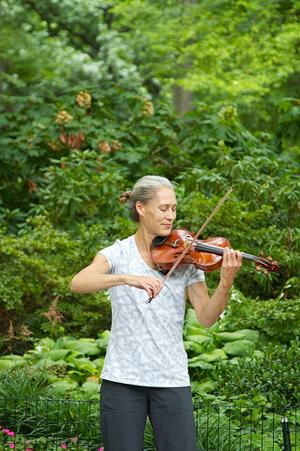person: (72, 177, 246, 449)
